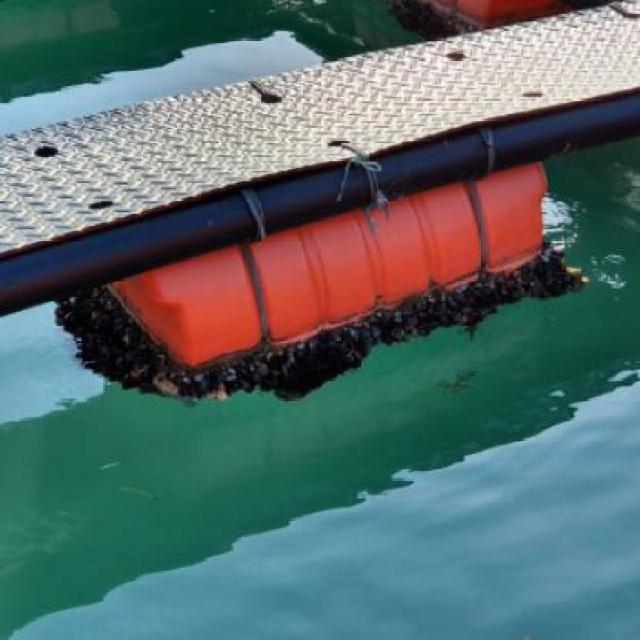a: (53, 149, 589, 396)
